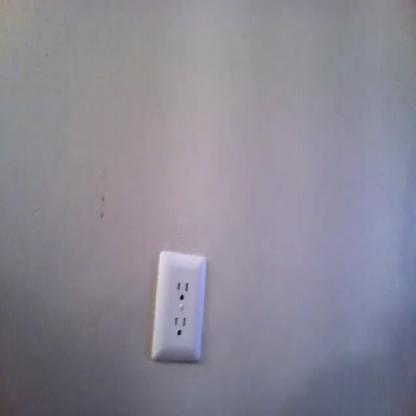OUTLET: (154, 249, 204, 358)
